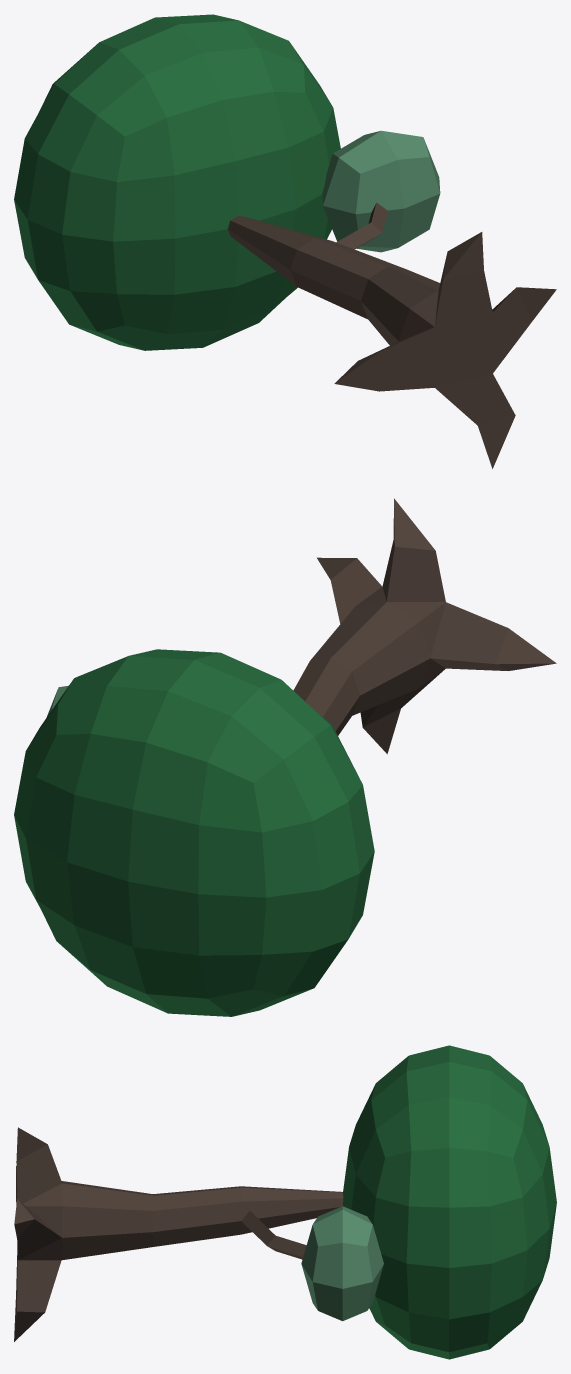
File: tree_1_disturb.fbx
3 renders of one model, top to bottom at view 1: azimuth 30°, elevation 25°; view 2: azimuth 150°, elevation 25°; view 3: azimuth 270°, elevation 25°, orthographic. The views are drawn at different scales.
Parts seen in each view (by area): view 1: Cube; view 2: Cube; view 3: Cube.
Boxes of the visible parts, x1,y1,x2,y2 form: Cube: (14, 14, 556, 468); Cube: (14, 498, 556, 1016); Cube: (14, 1045, 556, 1359).
Size of the model in its own units: 80704 by 69490 by 121514.
